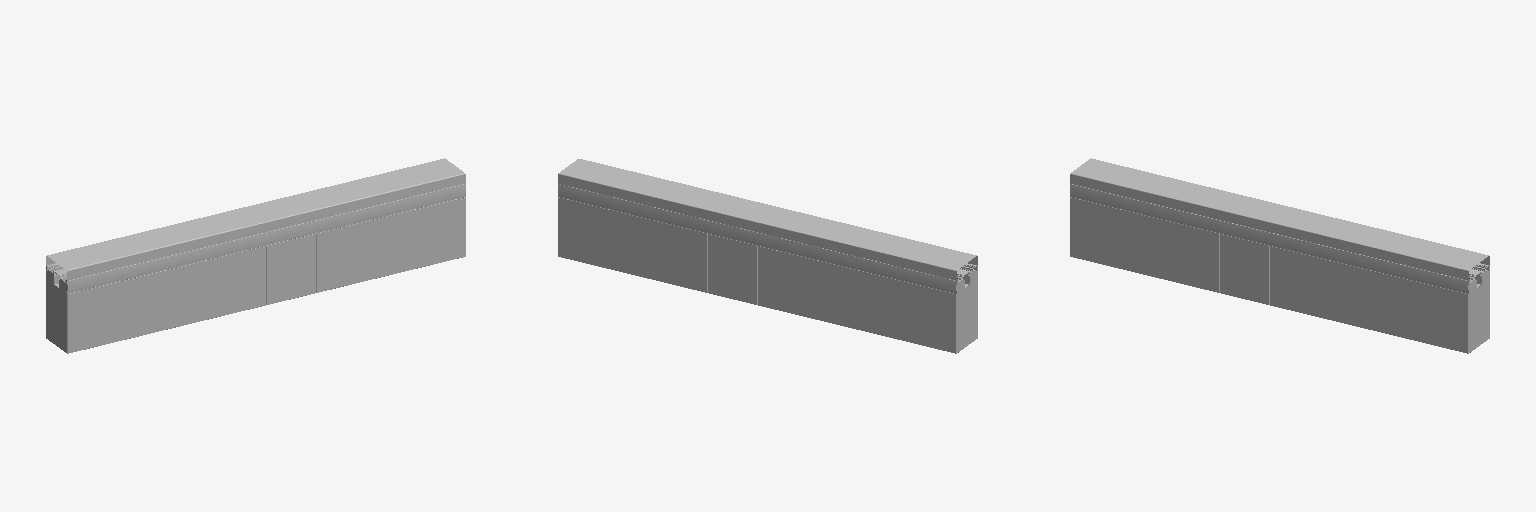
Rendered from Automation Track x4.obj.
3 renders of one model, left to right at view 1: azimuth 30°, elevation 25°; view 2: azimuth 150°, elevation 25°; view 3: azimuth 330°, elevation 25°, orthographic.
Parts seen in each view (by area): view 1: object1, object4; view 2: object1, object4; view 3: object1, object4.
Boxes of the visible parts, <box> form: object1: <box>46,184,465,353</box>; object4: <box>46,158,465,280</box>; object1: <box>558,184,977,353</box>; object4: <box>558,159,977,280</box>; object1: <box>1070,184,1489,353</box>; object4: <box>1070,158,1489,280</box>.
Size of the model in its own units: 212 by 42.31 by 19.83.